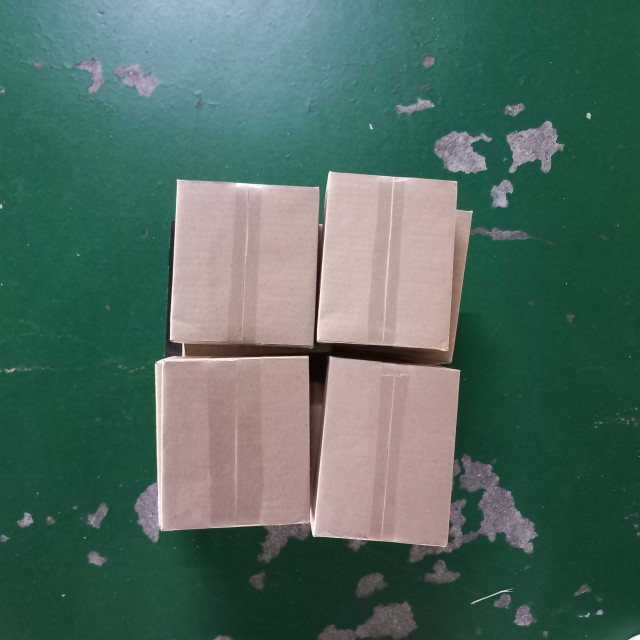box: (152, 350, 313, 535), (311, 166, 463, 361), (311, 355, 462, 551), (165, 176, 324, 359)
